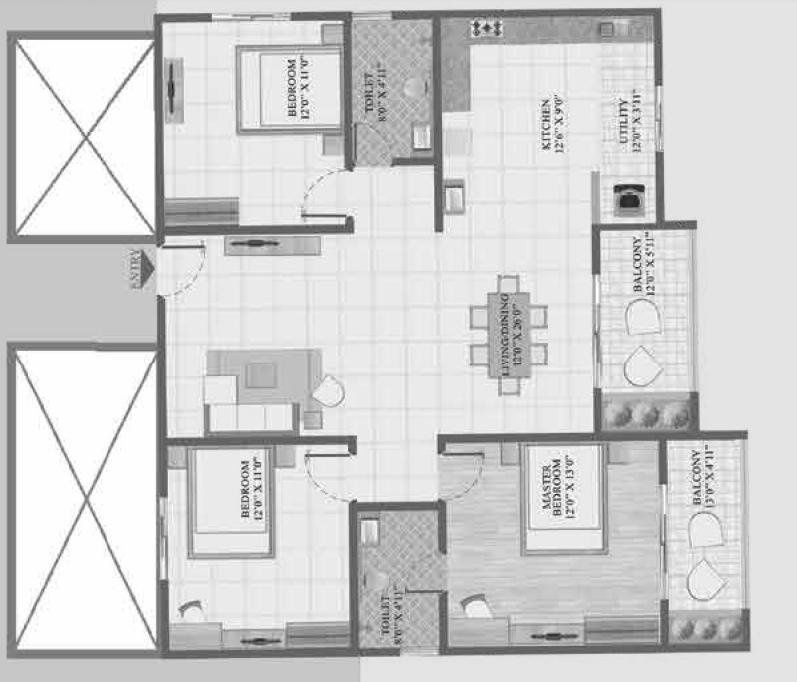Balcony: (597, 233, 697, 431), (666, 435, 744, 650)
Bed: (239, 46, 345, 132), (191, 449, 273, 560), (521, 444, 605, 547)
Bedroom: (444, 445, 664, 647), (161, 22, 350, 230), (166, 445, 355, 647)
Dining Room: (436, 231, 599, 443)
Dining table: (466, 274, 551, 394)
Kitchen: (436, 14, 593, 231)
Living Room: (161, 233, 438, 440)
Sofa: (204, 405, 297, 433), (202, 377, 238, 430)
Wardrobe: (163, 199, 238, 226), (586, 619, 662, 644), (287, 623, 353, 650)
commode: (359, 571, 389, 593), (404, 79, 429, 99)
door: (156, 246, 211, 302), (299, 166, 354, 217), (589, 275, 611, 388), (441, 451, 489, 501), (303, 456, 353, 502), (655, 484, 674, 600), (403, 551, 449, 594), (355, 126, 396, 170)
kitchen-slab: (436, 14, 653, 46), (436, 15, 472, 113)
sink: (600, 22, 649, 41), (359, 519, 381, 548), (446, 188, 464, 217), (412, 126, 430, 149)
stove: (475, 18, 502, 40)
toilet: (352, 501, 443, 655)
tv: (506, 621, 583, 648), (229, 231, 285, 257), (223, 628, 285, 647), (165, 57, 183, 122)
utility: (595, 18, 656, 222)
